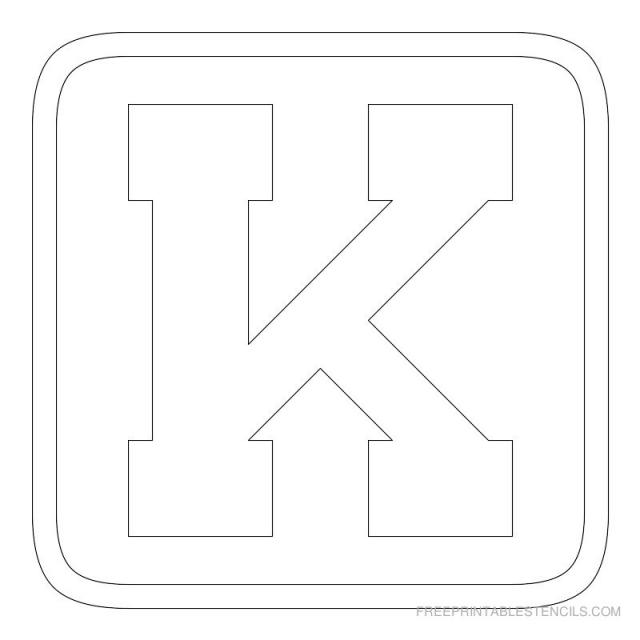K: (100, 75, 527, 572)
